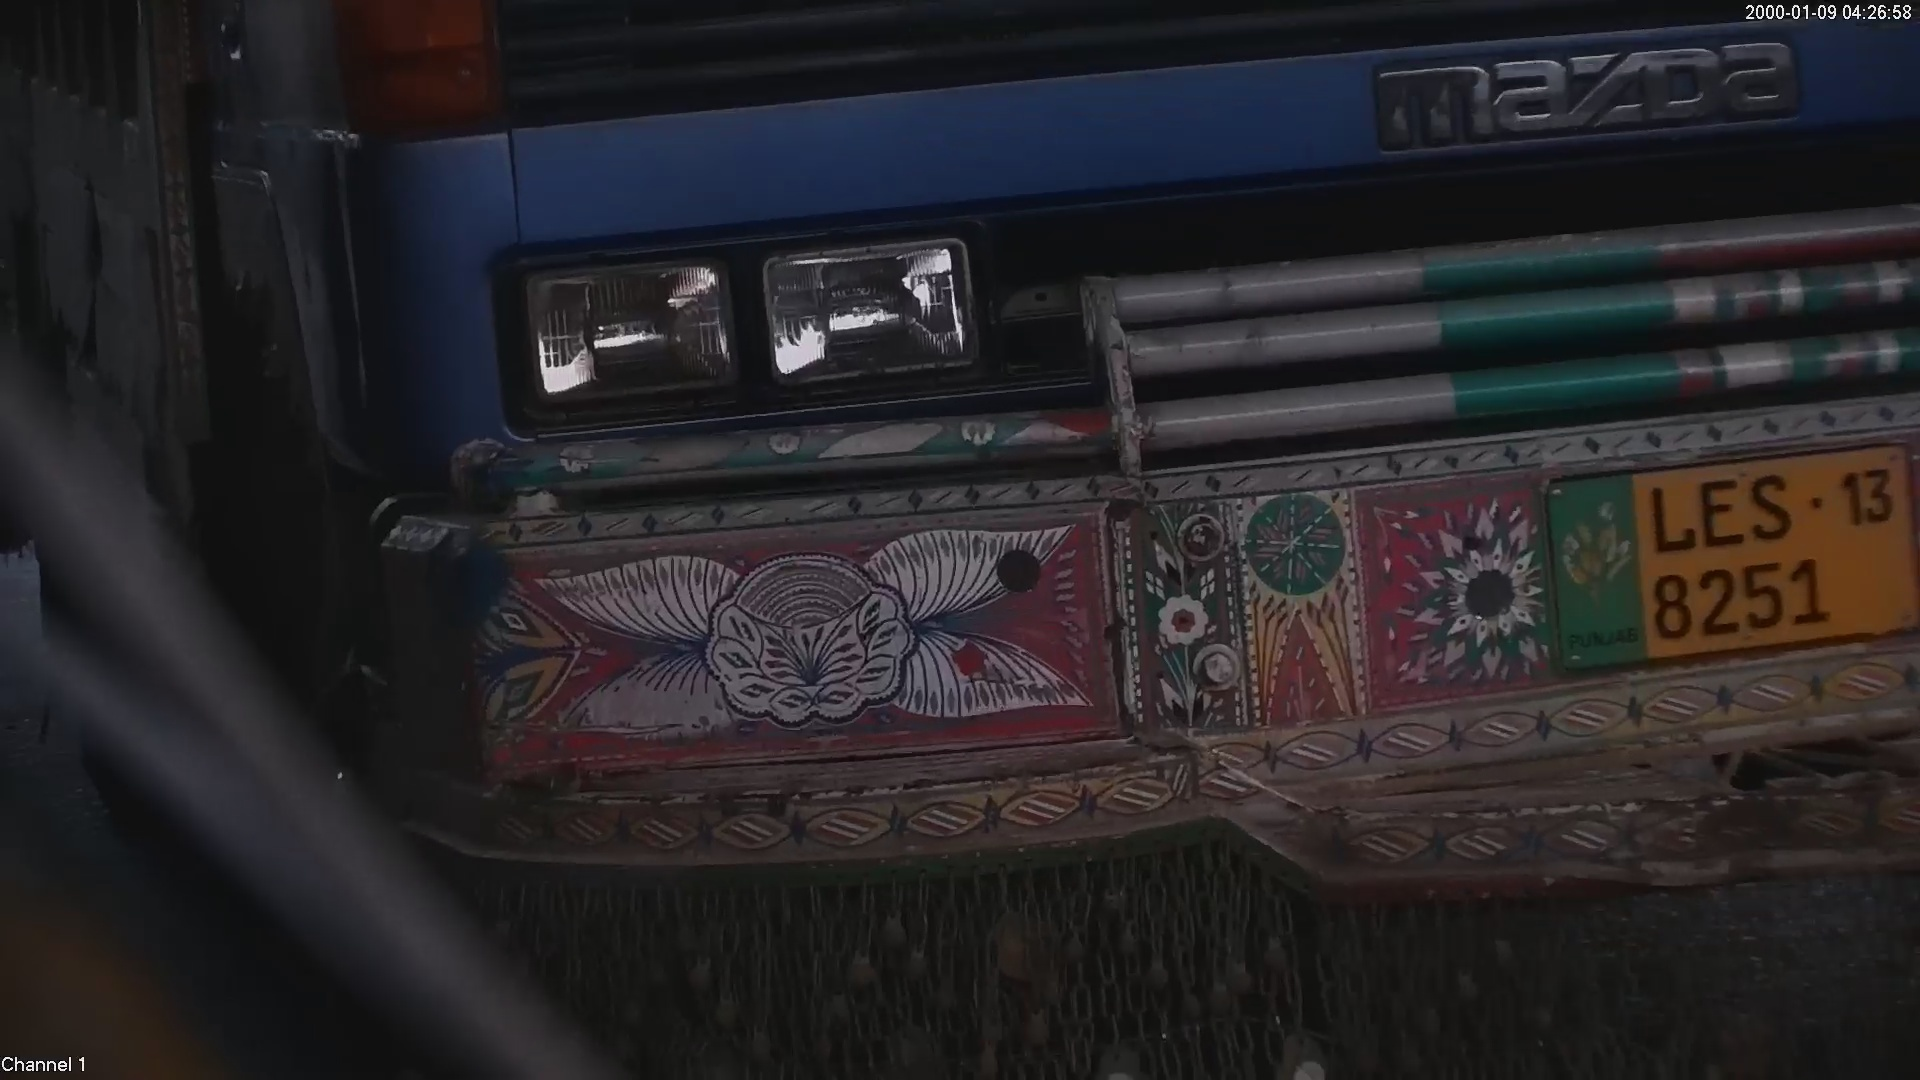Number_Plate: (1528, 440, 1919, 659)
Undefined: (500, 218, 997, 401), (1363, 31, 1808, 142)
